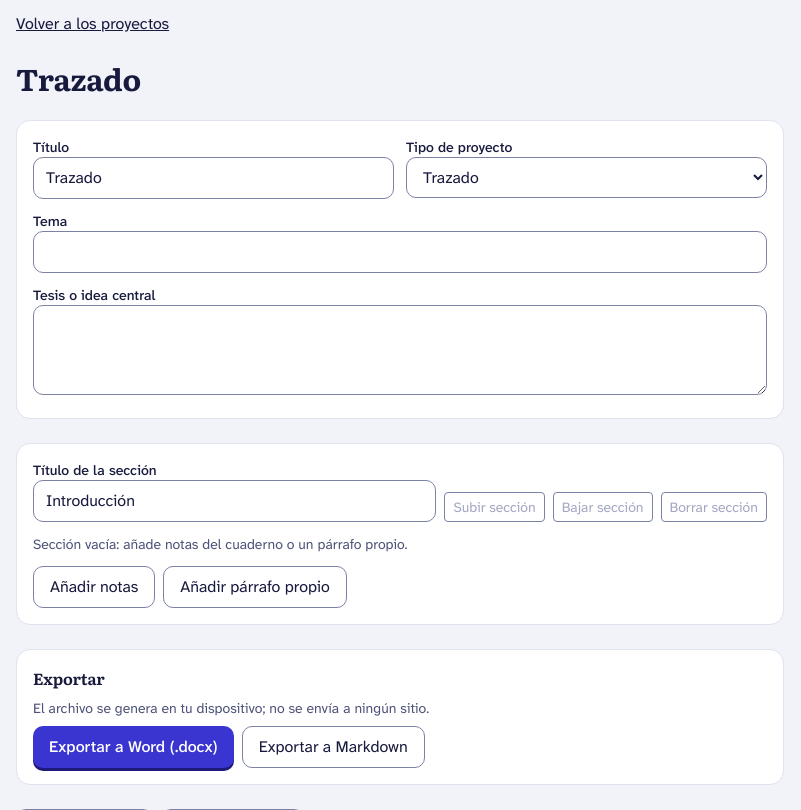
Test: ProjectEditor › guarda automáticamente tras una pausa, no en cada tecla
Type "La atención se entrena" into the text box labelled "Tesis o idea central" at [400, 350], box left=33, top=305, right=767, bottom=395
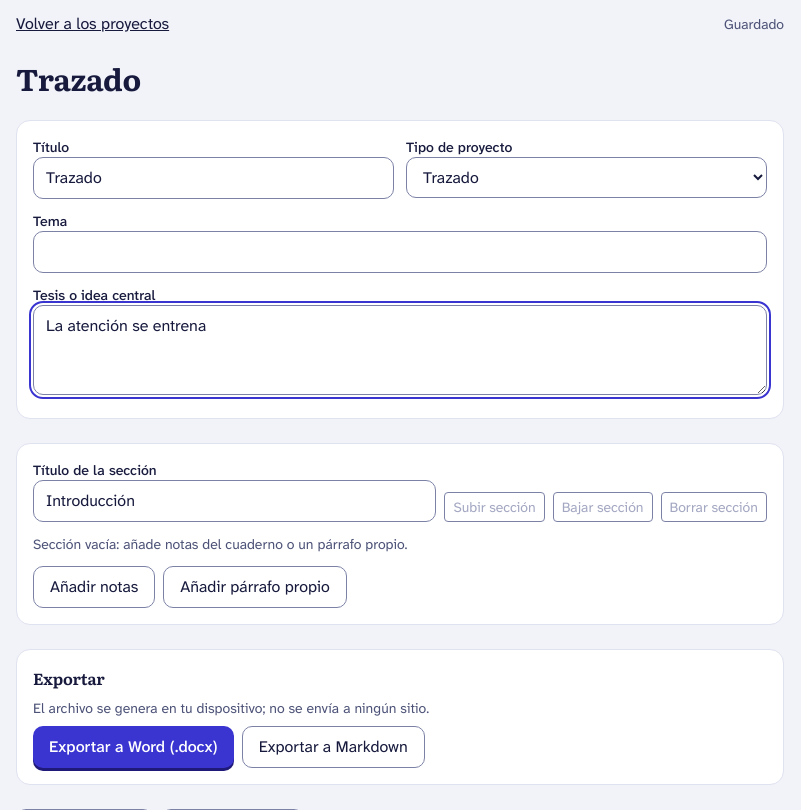
Result: the text "Guardado" is shown at left=724, top=14, right=784, bottom=34
